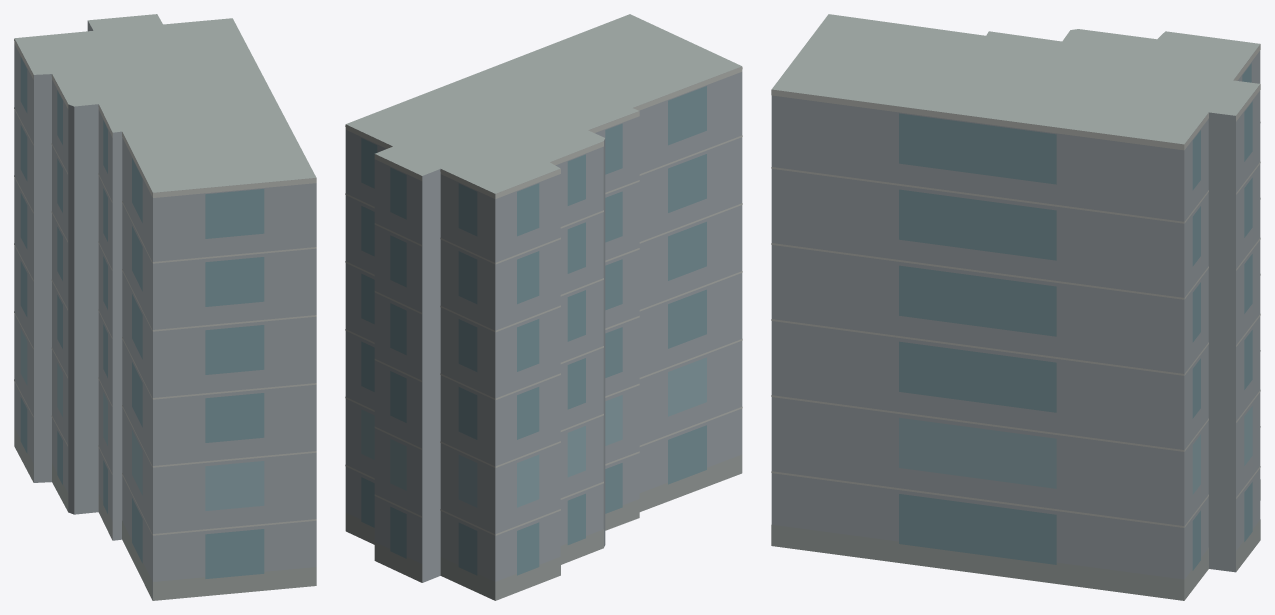
The model's file is survey-upis-32519308.glb.
3 renders of one model, left to right at view 1: azimuth 30°, elevation 25°; view 2: azimuth 150°, elevation 25°; view 3: azimuth 270°, elevation 25°, orthographic. The views are drawn at different scales.
Visible parts, largest first — view 1: survey-upis-32519308.tmp; view 2: survey-upis-32519308.tmp; view 3: survey-upis-32519308.tmp.
Part boxes in pixels (box(x1,y1,x2,y2)): survey-upis-32519308.tmp: box(14, 14, 316, 600); survey-upis-32519308.tmp: box(345, 14, 742, 600); survey-upis-32519308.tmp: box(771, 14, 1260, 600).
Bounding box in the file's own units: 11.42 × 18.6 × 18.08.
